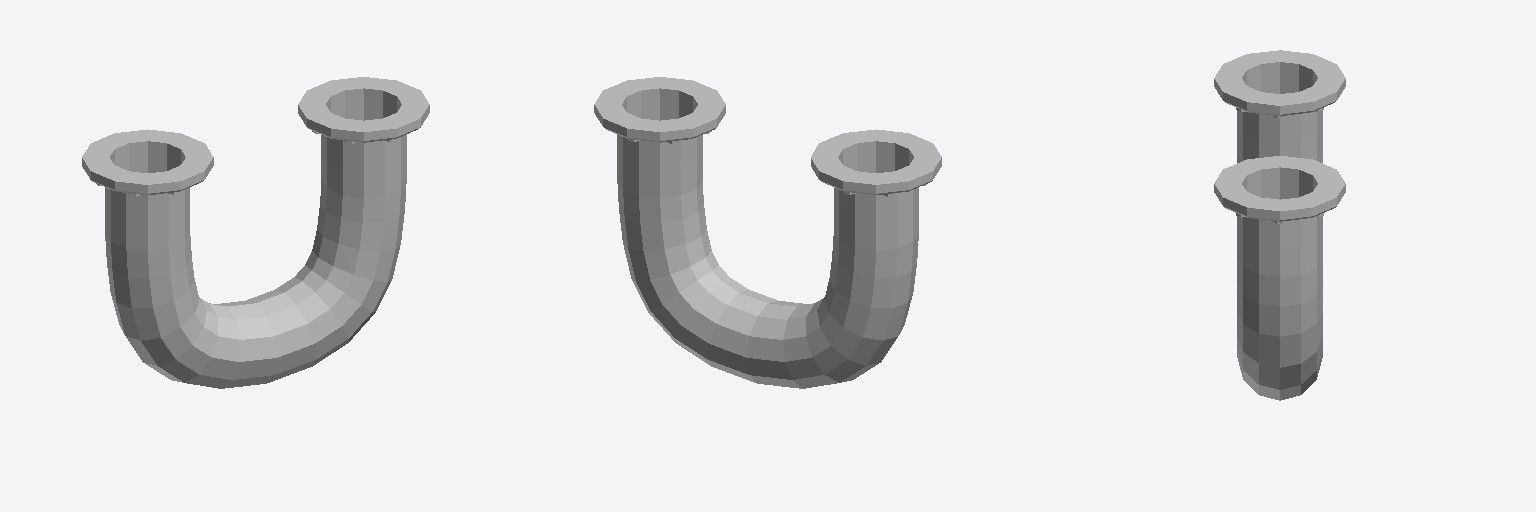
Rendered from modular_industrial_pipes_01-05.obj.
The picture shows the model from 3 angles: view 1: azimuth 30°, elevation 25°; view 2: azimuth 150°, elevation 25°; view 3: azimuth 270°, elevation 25°; orthographic projection.
Parts seen in each view (by area): view 1: modular_industrial_pipes_01_pipe05; view 2: modular_industrial_pipes_01_pipe05; view 3: modular_industrial_pipes_01_pipe05.
Part boxes in pixels (x1,y1,x2,y2): modular_industrial_pipes_01_pipe05: (82,77,429,388); modular_industrial_pipes_01_pipe05: (594,77,941,388); modular_industrial_pipes_01_pipe05: (1214,50,1345,400).
Size of the model in its own units: 0.5981 by 0.4329 by 0.2063.